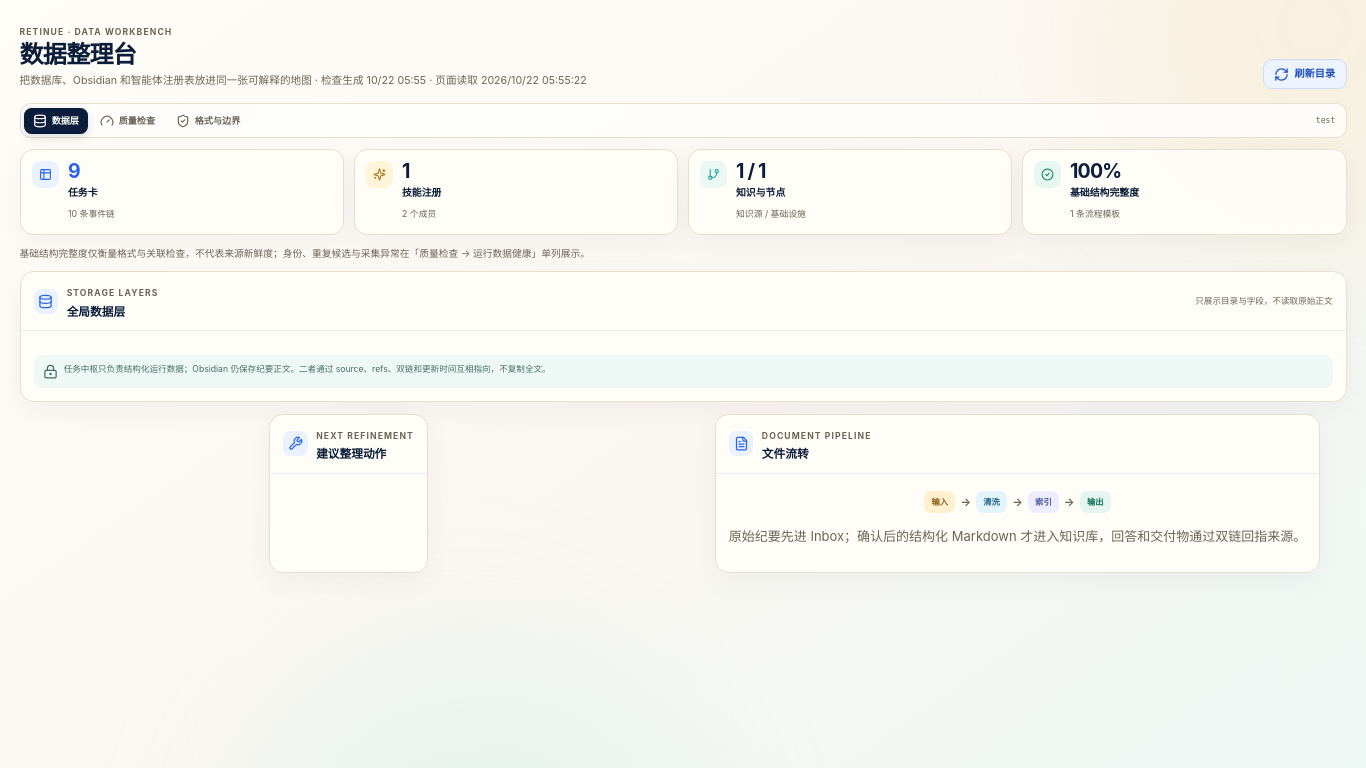
Test: 来源新鲜度与保留的质量检查 › retains field quality, exposes read-only health exceptions and labels lease expiry
Expected: the heading "数据整理台" is shown, 20,40 -> 136,69
Expected: the element "基础结构完整度" shows "100%", 1070,159 -> 1121,183
Click the tab "质量检查" at point(127, 121), box 91,108 -> 164,134
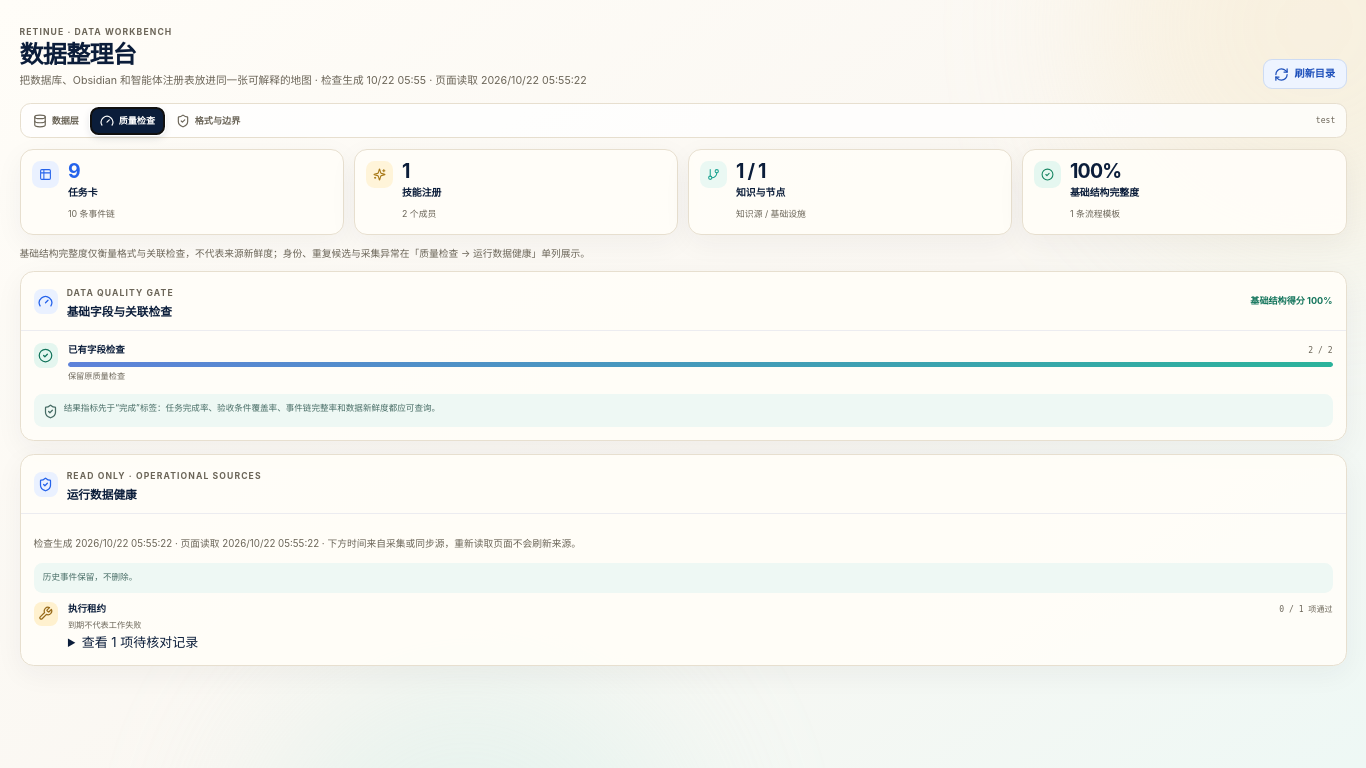
Expected: the heading "基础字段与关联检查" is shown, 67,303 -> 174,321
Expected: the text "基础结构得分 100%" is shown, 1250,294 -> 1332,308
Expected: the text "已有字段检查" is shown, 68,343 -> 125,358
Click the heading "查看 1 项待核对记录" at point(140, 642), box 82,634 -> 198,650
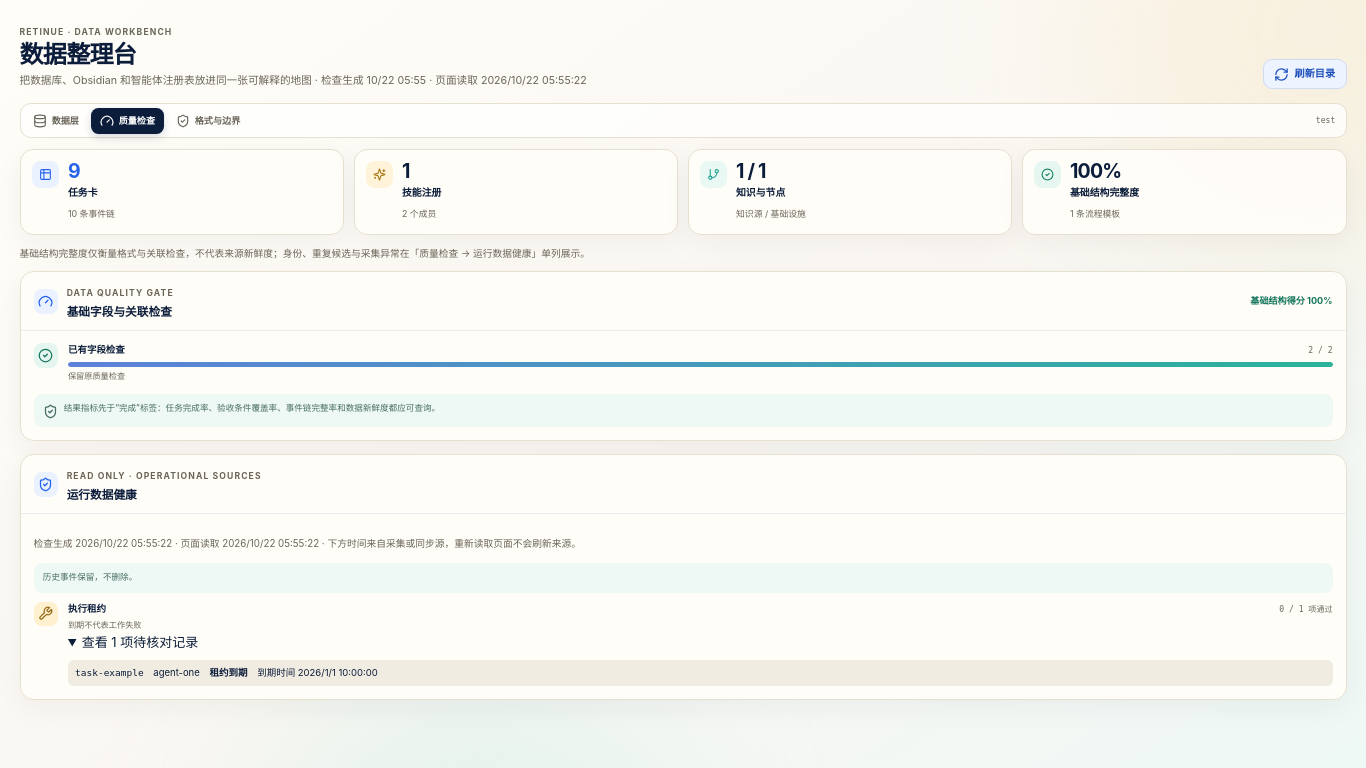
Expected: the text "task-example" is shown, 75,666 -> 144,681
Expected: the text "租约到期" is shown, 210,666 -> 247,681
